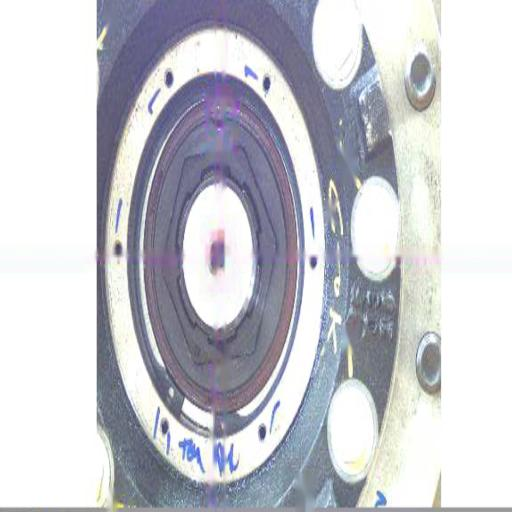center: (207, 242, 230, 280)
notch: (209, 112, 226, 134)
